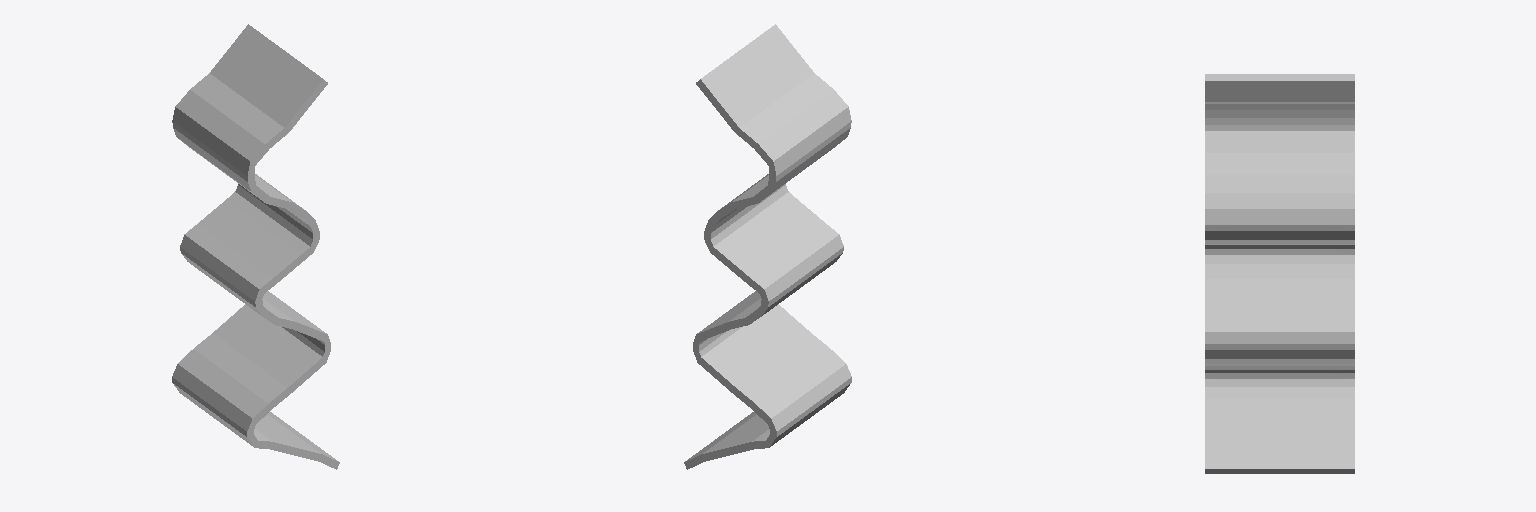
Rendered from belt_SB.obj.
3 renders of one model, left to right at view 1: azimuth 30°, elevation 25°; view 2: azimuth 150°, elevation 25°; view 3: azimuth 270°, elevation 25°, orthographic.
Bounding box in the file's own units: 8.3 × 33.62 × 11.62.